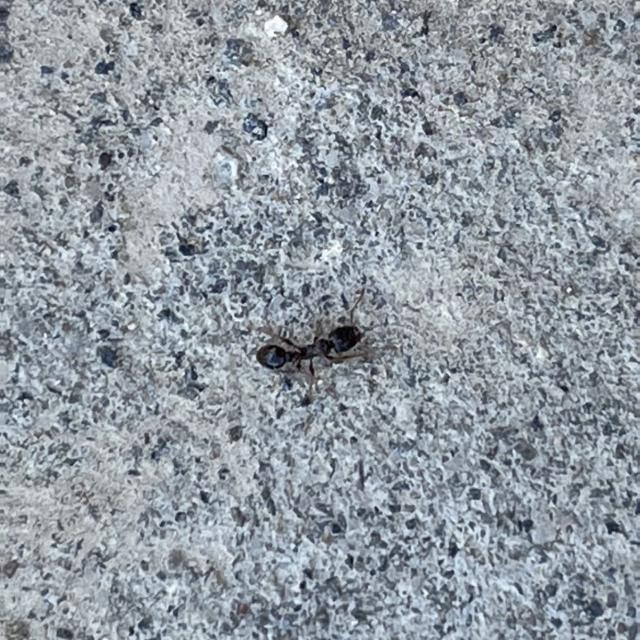Tetramorium: (246, 301, 386, 384)
